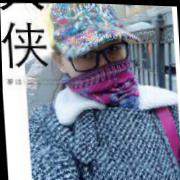WRONG: (69, 31, 133, 101)
